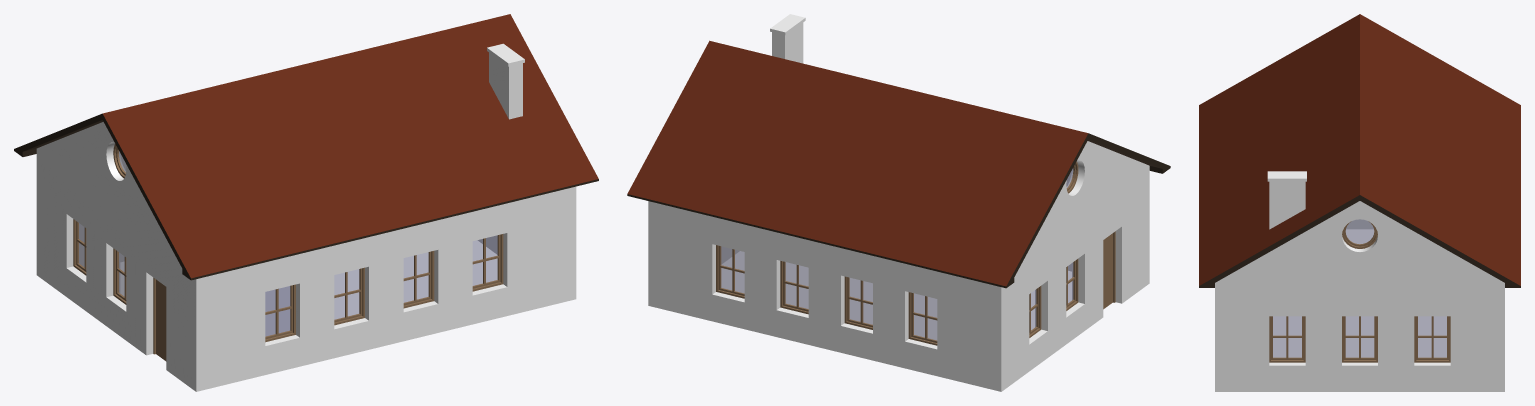
Rendered from house.dae.
3 renders of one model, left to right at view 1: azimuth 30°, elevation 25°; view 2: azimuth 150°, elevation 25°; view 3: azimuth 270°, elevation 25°, orthographic. The views are drawn at different scales.
Parts seen in each view (by area): view 1: instance_17 (×2), instance_0, instance_5 (×3), instance_14, instance_18, instance_8; view 2: instance_17 (×2), instance_13, instance_5 (×3), instance_14, instance_18, instance_8; view 3: instance_17 (×2), instance_9, instance_16, instance_18, instance_10 (×2), instance_11 (×2), instance_15, instance_12, instance_19.
Part boxes in pixels (bbox=[...]): instance_17 (×2): bbox=[14, 14, 598, 280]; instance_0: bbox=[196, 186, 576, 391]; instance_5 (×3): bbox=[36, 149, 196, 391]; instance_14: bbox=[37, 122, 169, 245]; instance_18: bbox=[489, 53, 522, 119]; instance_8: bbox=[153, 277, 166, 361]; instance_17 (×2): bbox=[627, 40, 1170, 288]; instance_13: bbox=[648, 201, 1001, 391]; instance_5 (×3): bbox=[1001, 166, 1149, 391]; instance_14: bbox=[1025, 141, 1149, 256]; instance_18: bbox=[772, 23, 803, 63]; instance_8: bbox=[1103, 231, 1115, 309]; instance_17 (×2): bbox=[1199, 14, 1520, 287]; instance_9: bbox=[1215, 277, 1504, 391]; instance_16: bbox=[1226, 201, 1493, 276]; instance_18: bbox=[1269, 181, 1305, 229]; instance_10 (×2): bbox=[1269, 316, 1305, 362]; instance_11 (×2): bbox=[1414, 316, 1450, 362]; instance_15: bbox=[1345, 219, 1374, 243]; instance_12: bbox=[1343, 316, 1376, 360]; instance_19: bbox=[1267, 171, 1306, 181].
Bounding box in the file's own units: 465 × 349 × 244.
